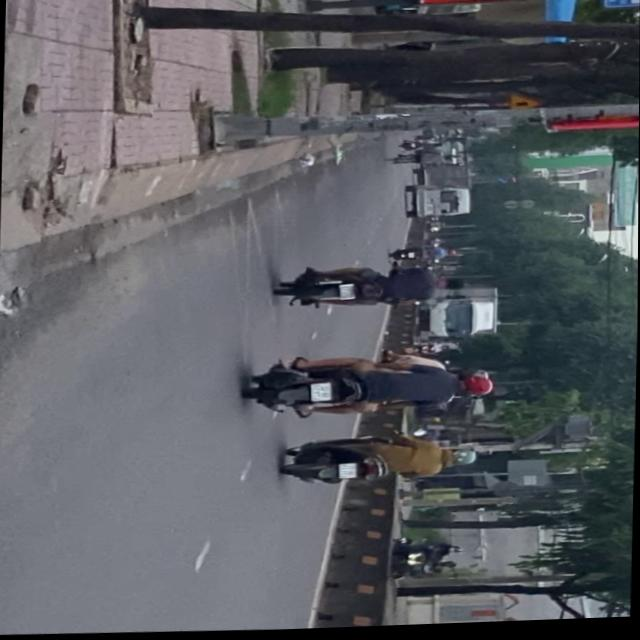helmet: (458, 376, 496, 402), (447, 451, 479, 471)
licenseplate: (244, 349, 497, 427), (281, 434, 479, 491)
nohelmet: (312, 385, 333, 403), (340, 466, 358, 480)
